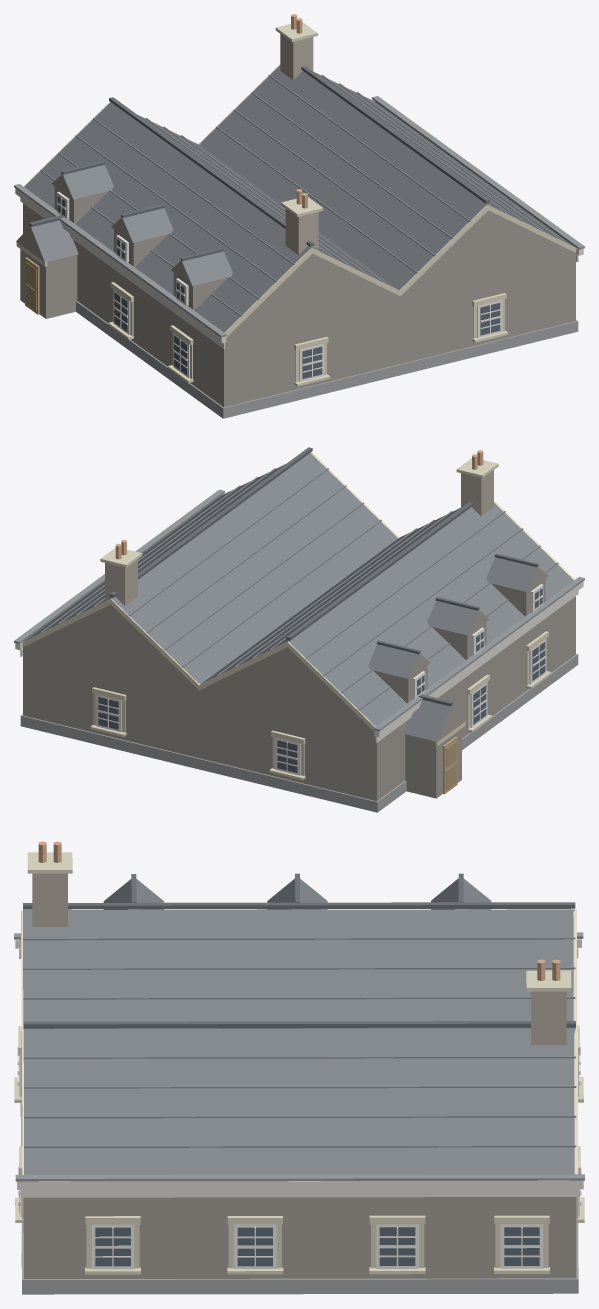
The picture shows the model from 3 angles, top to bottom: view 1: azimuth 30°, elevation 25°; view 2: azimuth 150°, elevation 25°; view 3: azimuth 270°, elevation 25°; orthographic projection. The views are drawn at different scales.
Visible parts, largest first — view 1: slate, rubble, slate_lt, dress_buff, plinth, slate_dk, lead, chim_stone, frame, string, window_glass_007, window_glass_009; view 2: slate, rubble, slate_lt, dress_buff, plinth, slate_dk, lead, frame, chim_stone, string, window_glass_008, window_glass_006; view 3: slate, rubble, slate_lt, dress_buff, string, plinth, slate_dk, frame, lead, chim_stone, window_glass_010, window_glass_011 (+3 smaller).
Boxes of the visible parts, box(x1,y1,x2,y2) form: slate: box(24, 65, 573, 332); rubble: box(16, 101, 575, 407); slate_lt: box(40, 75, 558, 316); dress_buff: box(16, 22, 576, 386); plinth: box(76, 301, 578, 418); slate_dk: box(29, 66, 489, 261); lead: box(14, 96, 584, 337); chim_stone: box(280, 34, 318, 254); frame: box(57, 191, 502, 381); string: box(15, 100, 583, 348); window_glass_007: box(302, 346, 322, 379); window_glass_009: box(480, 303, 500, 335); slate: box(25, 452, 573, 741); rubble: box(23, 495, 575, 801); slate_lt: box(40, 468, 558, 710); dress_buff: box(22, 452, 575, 780); plinth: box(20, 654, 578, 812); slate_dk: box(109, 447, 538, 706); lead: box(14, 489, 584, 731); frame: box(96, 584, 545, 775); chim_stone: box(105, 470, 493, 605); string: box(15, 493, 583, 742); window_glass_008: box(277, 740, 297, 772); window_glass_006: box(98, 697, 118, 729); slate: box(23, 878, 575, 1174); rubble: box(23, 909, 576, 1278); slate_lt: box(23, 937, 576, 1147); dress_buff: box(14, 852, 584, 1274); string: box(15, 939, 583, 1197); plinth: box(20, 1103, 578, 1294); slate_dk: box(23, 873, 575, 1028); frame: box(17, 1046, 581, 1269); lead: box(14, 932, 584, 1181); chim_stone: box(32, 873, 566, 1044); window_glass_010: box(95, 1227, 130, 1266); window_glass_011: box(237, 1227, 272, 1266).
Size of the model in its own units: 17.65 by 8.44 by 16.06.
